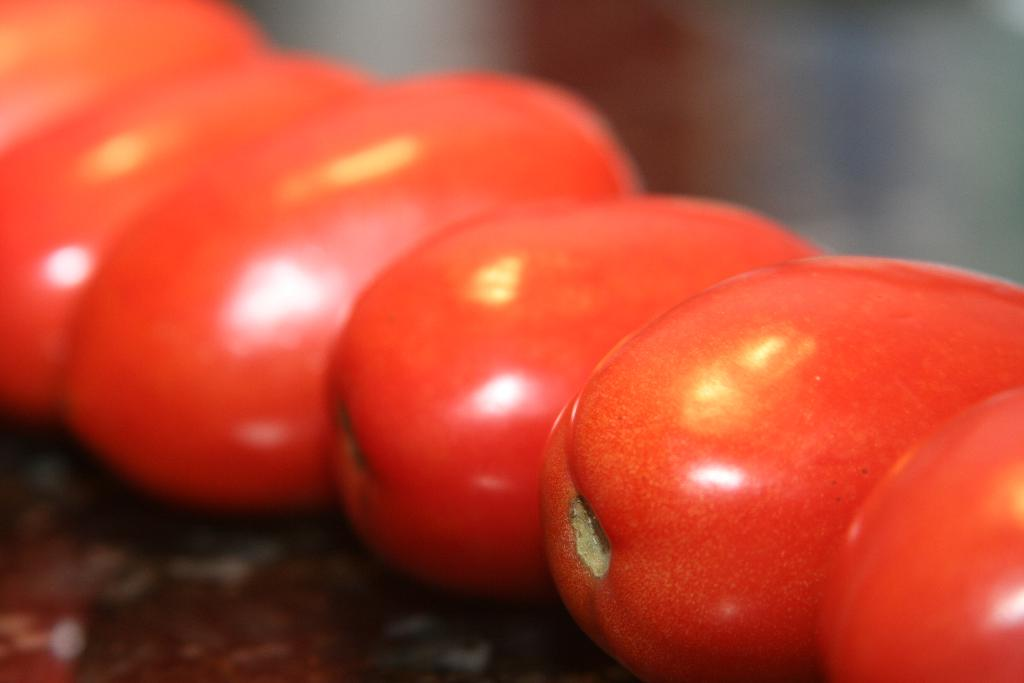Tomato: (0, 0, 1024, 682)
